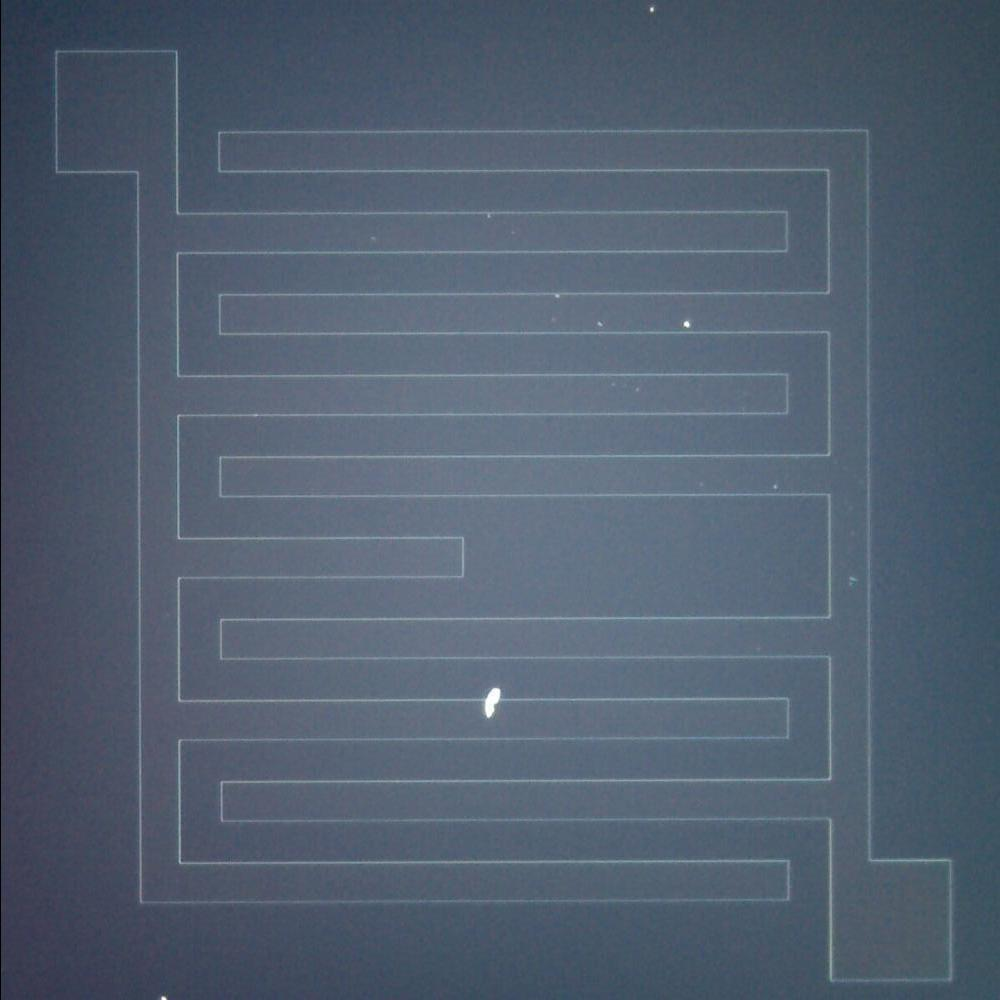cut circuit: (151, 517, 838, 601)
dot: (670, 306, 702, 340), (637, 0, 667, 24)
spot: (472, 682, 507, 722)
